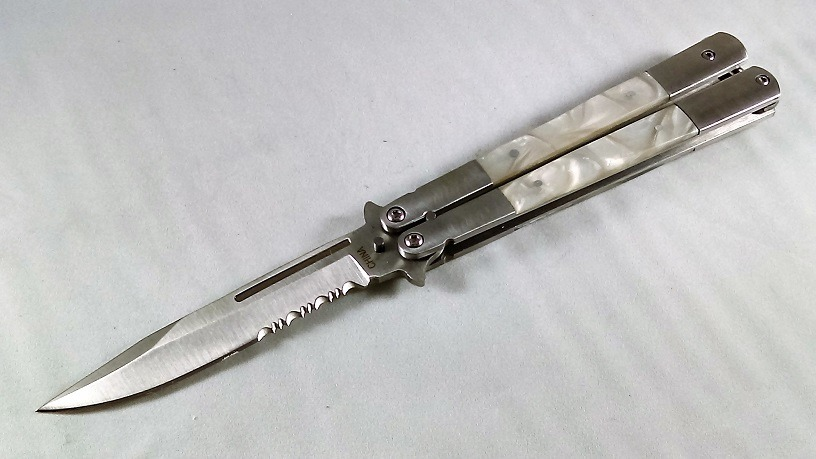knife: (32, 29, 783, 416)
